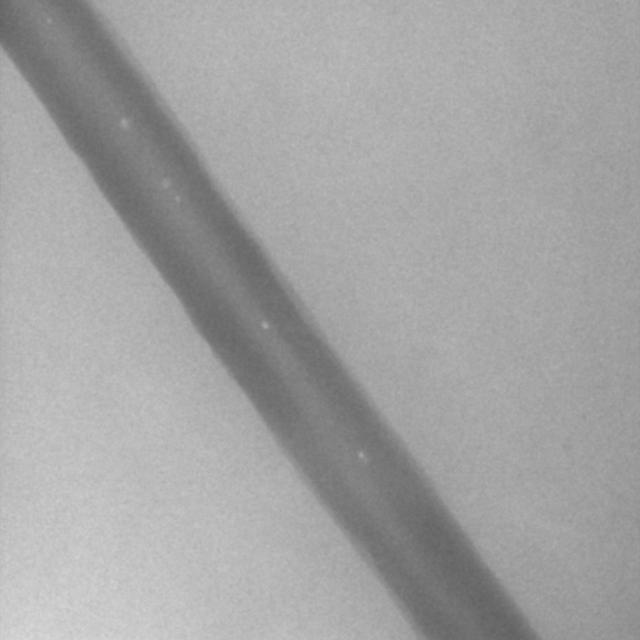air hole: (260, 317, 270, 331), (119, 116, 129, 130), (356, 448, 366, 461)
